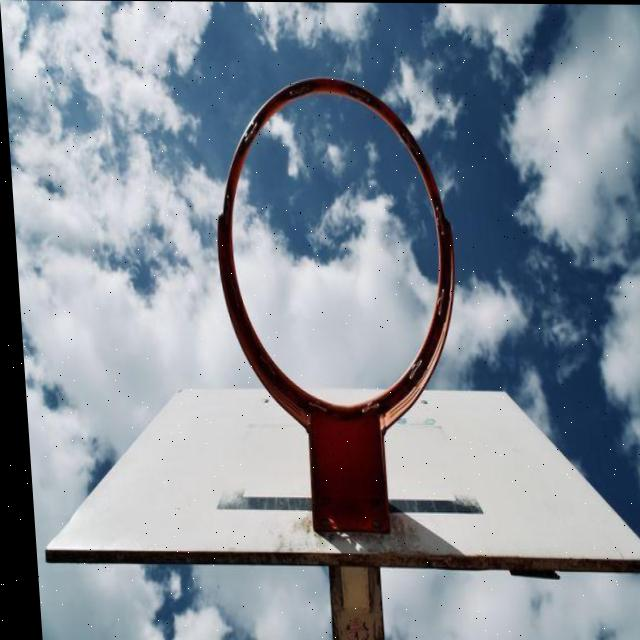hoop: (179, 88, 504, 471)
